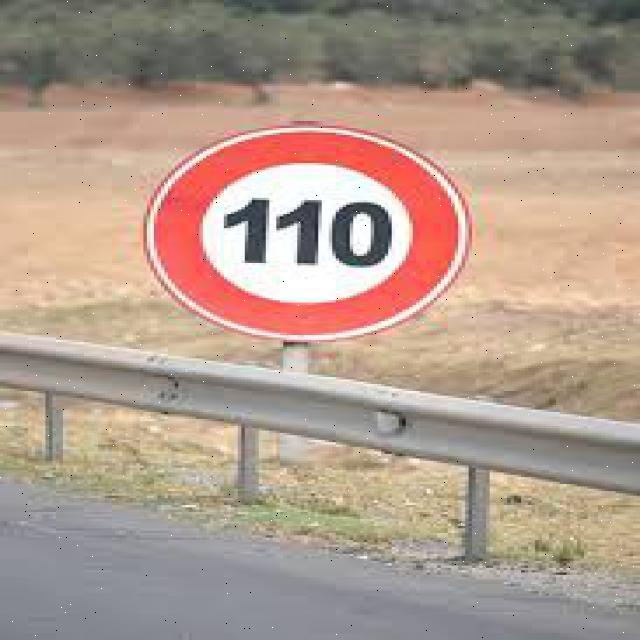speed limit 110: (143, 126, 472, 341)
